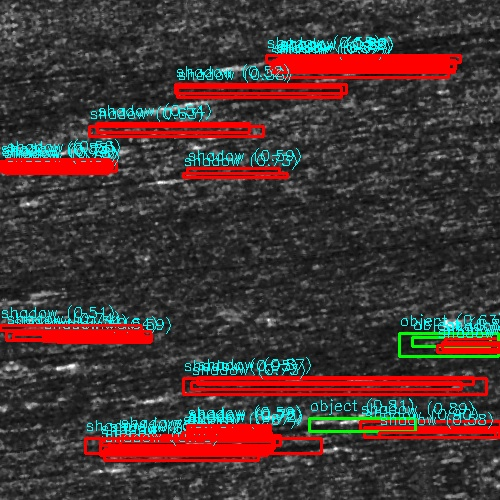rock: (303, 422, 428, 437), (124, 91, 229, 100), (129, 378, 212, 389), (233, 60, 326, 69), (64, 122, 137, 131), (411, 336, 484, 345), (69, 444, 142, 453), (0, 307, 48, 320), (161, 427, 214, 434), (36, 339, 99, 344), (166, 167, 219, 172), (0, 332, 24, 341)
shadow: (171, 378, 500, 389), (366, 422, 500, 437), (0, 307, 133, 320), (280, 60, 448, 69), (177, 91, 344, 100), (106, 444, 273, 453), (101, 122, 264, 131), (0, 332, 158, 341), (0, 162, 114, 169), (0, 324, 135, 329), (0, 93, 67, 102), (188, 427, 272, 434), (448, 336, 500, 345), (193, 167, 276, 172), (68, 339, 149, 344)
